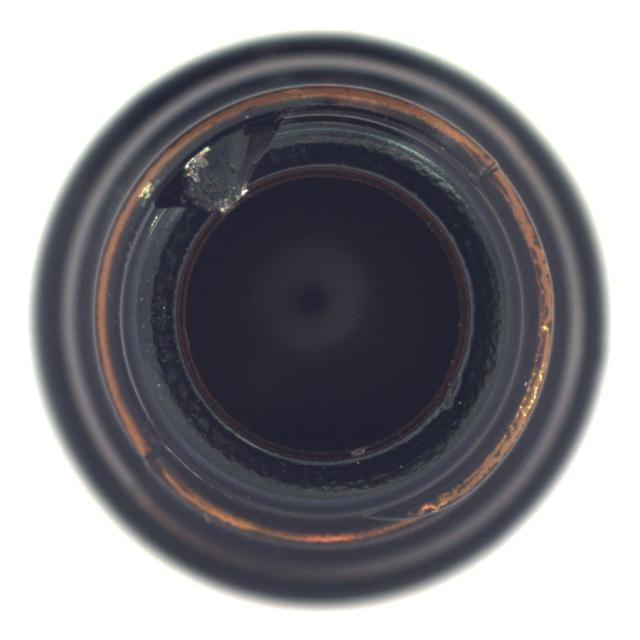bad-broken_small: (29, 31, 611, 611)
